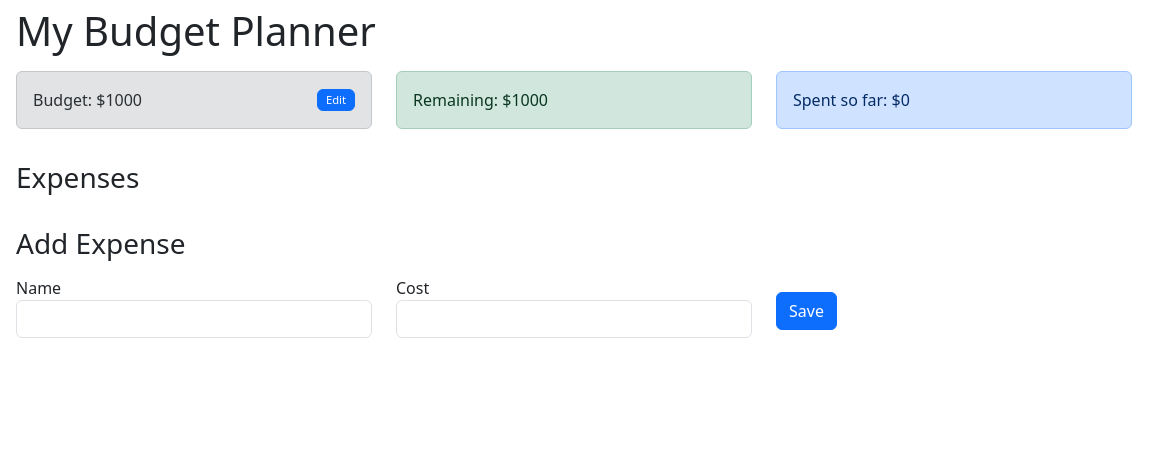
it: Budget Balance Verification › Balance Updates After Multiple Insert & Deletion
The width and height of the screenshot is (1149, 450).
In the field labelled "Name": (194, 319) [16,300,372,338], type "New Expense1"
In the field labelled "Cost": (574, 319) [396,300,752,338], type "300"
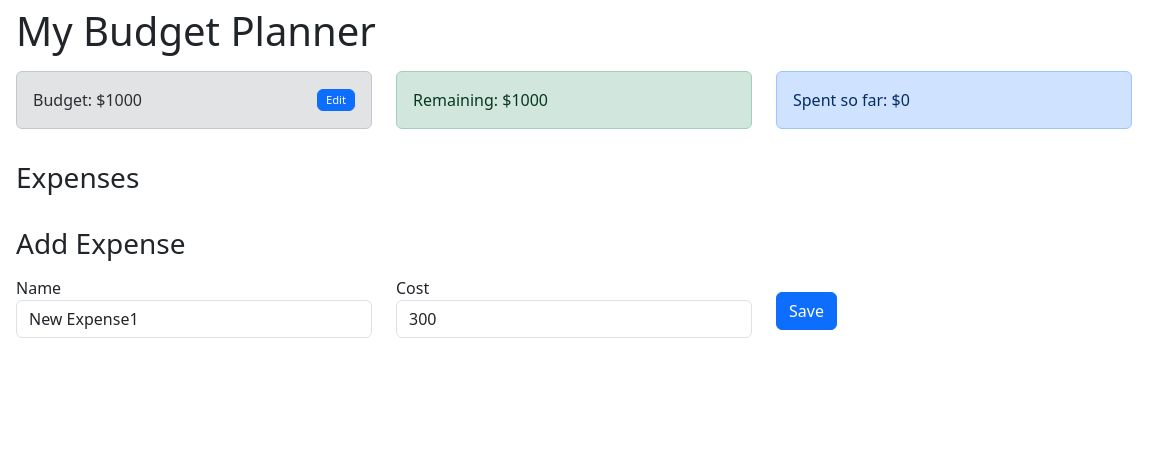
Click the button "Save": (806, 311) [776,292,837,330]
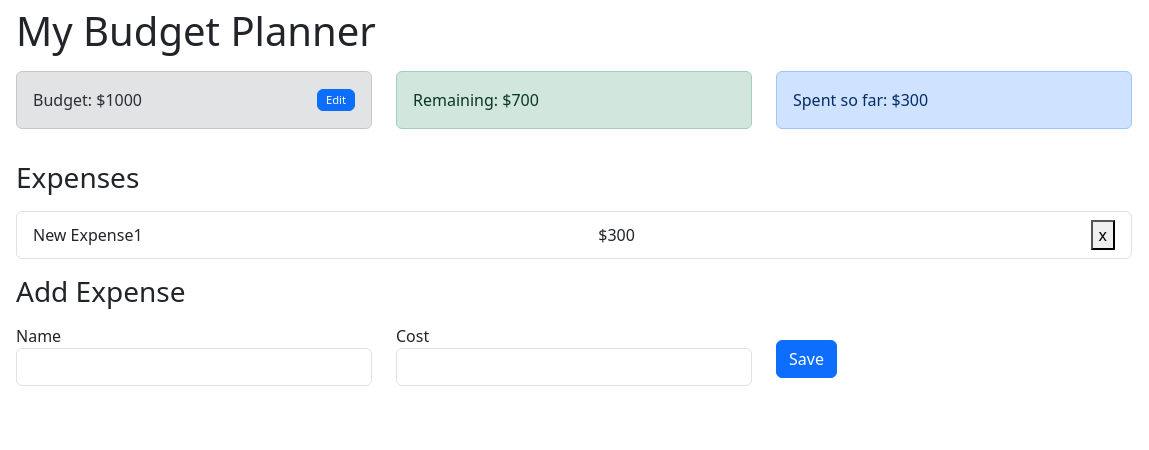
In the field labelled "Name": (194, 367) [16,348,372,386], type "New Expense2"
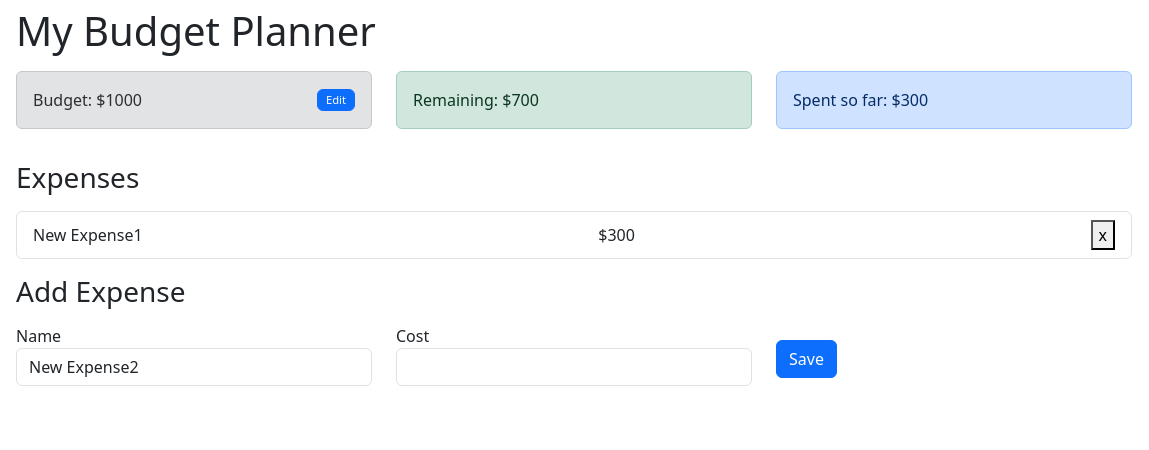
In the field labelled "Cost": (574, 367) [396,348,752,386], type "500"
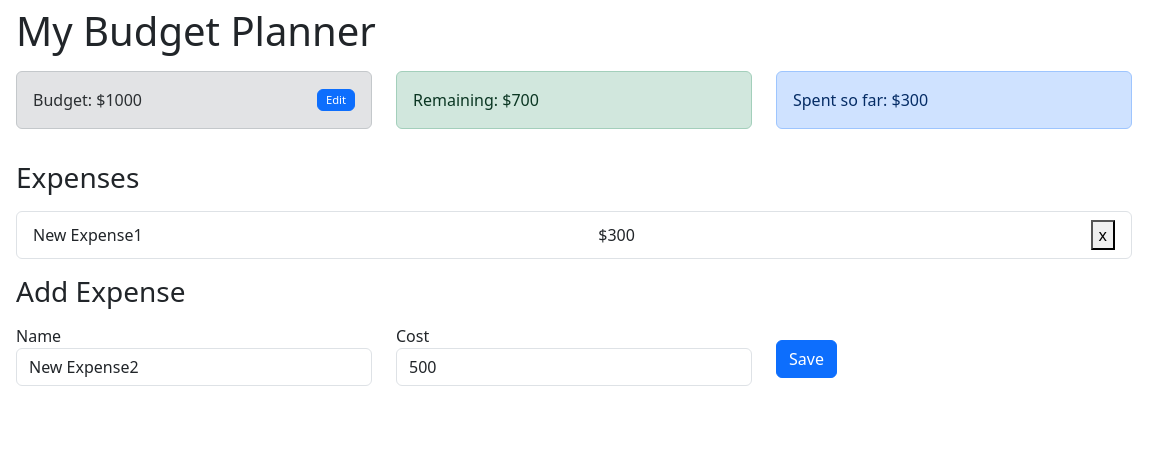
Click the button "Save": (806, 359) [776,340,837,378]
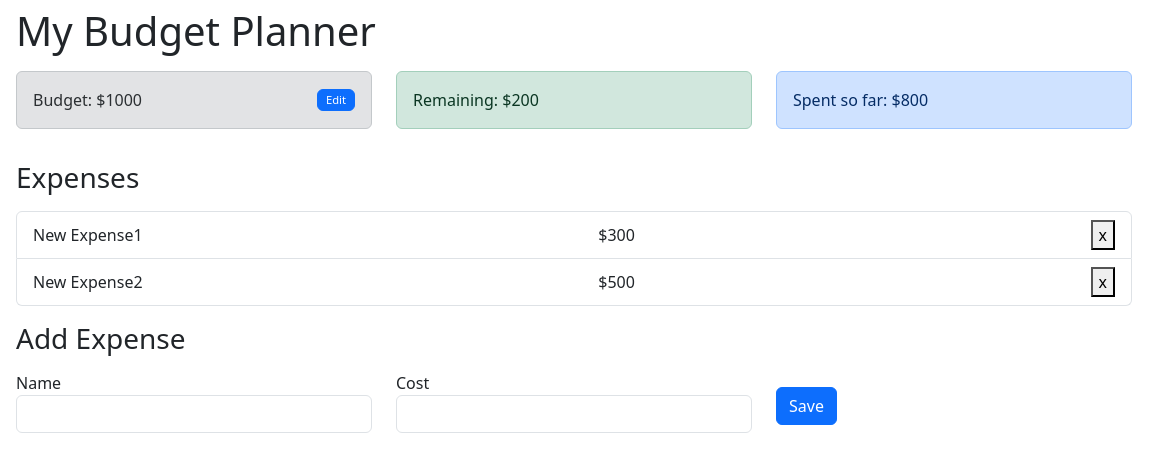
Check: the text "Remaining: $200" is shown, box [413,89,539,111]
# Delete test expense2
Click the button "x" in the row of "New Expense2": (1103, 282) [1090,267,1115,297]
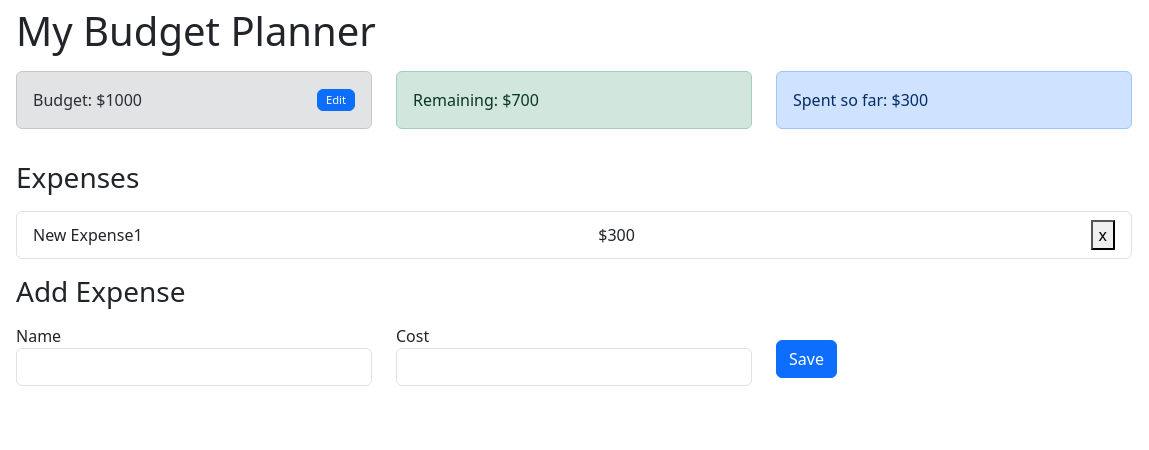
Check: the text "Remaining: $700" is shown, box [413,89,539,111]
